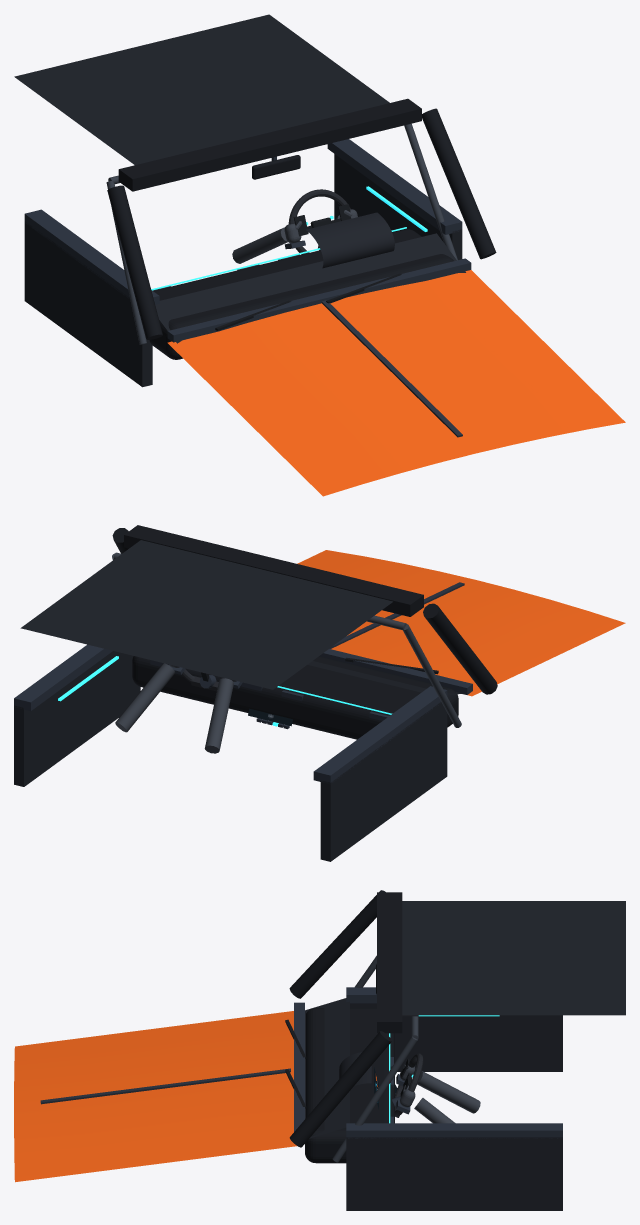
Rendered from cockpit_rig.glb.
The picture shows the model from 3 angles, top to bottom: view 1: azimuth 30°, elevation 25°; view 2: azimuth 150°, elevation 25°; view 3: azimuth 270°, elevation 25°; orthographic projection. The views are drawn at different scales.
Parts seen in each view (by area): view 1: cockpit, steering_wheel_mesh; view 2: cockpit; view 3: cockpit, steering_wheel_mesh, hands.
Part boxes in pixels (<box>): cockpit: <box>14,14,625,496</box>; steering_wheel_mesh: <box>288,189,351,254</box>; cockpit: <box>14,525,625,861</box>; cockpit: <box>14,890,625,1210</box>; steering_wheel_mesh: <box>394,1053,423,1117</box>; hands: <box>396,1064,415,1114</box>.
Bounding box in the file's own units: 2.05 × 1.09 × 3.39.
11 materials, 1 textured.
